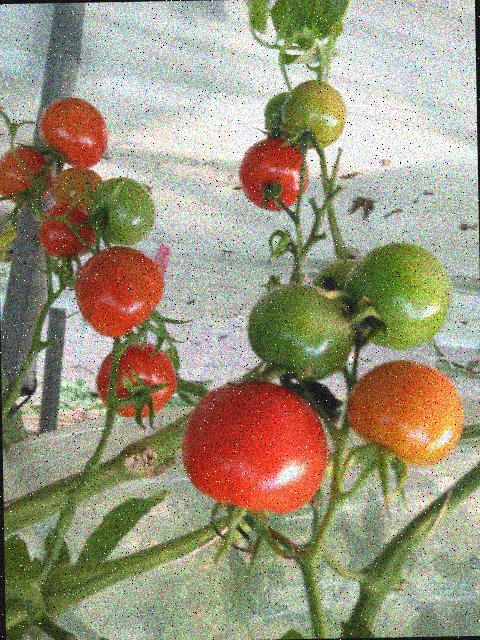l_fully_ripened: (180, 379, 328, 515), (73, 245, 166, 339), (94, 341, 179, 419), (237, 138, 309, 213), (37, 96, 108, 170), (37, 202, 97, 261), (0, 145, 52, 206)
l_green: (341, 241, 454, 352), (247, 285, 354, 381), (85, 177, 156, 247), (281, 79, 348, 150), (312, 260, 358, 315), (263, 92, 291, 140)
l_half_ripened: (346, 359, 464, 468), (50, 166, 104, 211)
